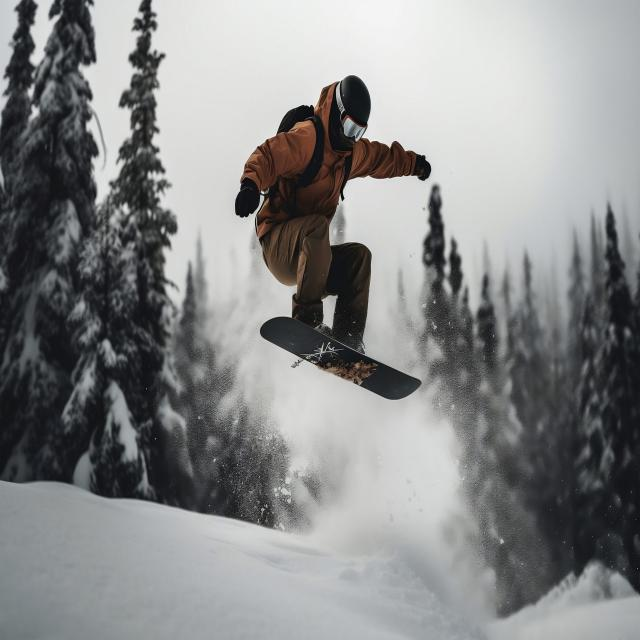snowboarder: (231, 76, 432, 404)
